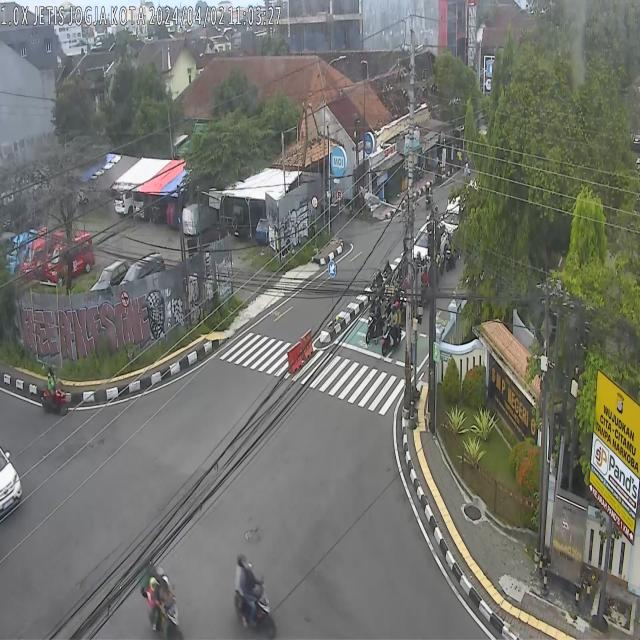car: (414, 221, 448, 269), (440, 196, 466, 237)
motorcycle: (232, 547, 277, 639), (141, 556, 186, 640), (41, 371, 67, 417), (382, 302, 402, 353), (367, 295, 385, 341), (385, 278, 397, 316), (371, 272, 383, 306), (446, 240, 458, 269), (381, 260, 392, 289), (425, 180, 433, 210)
